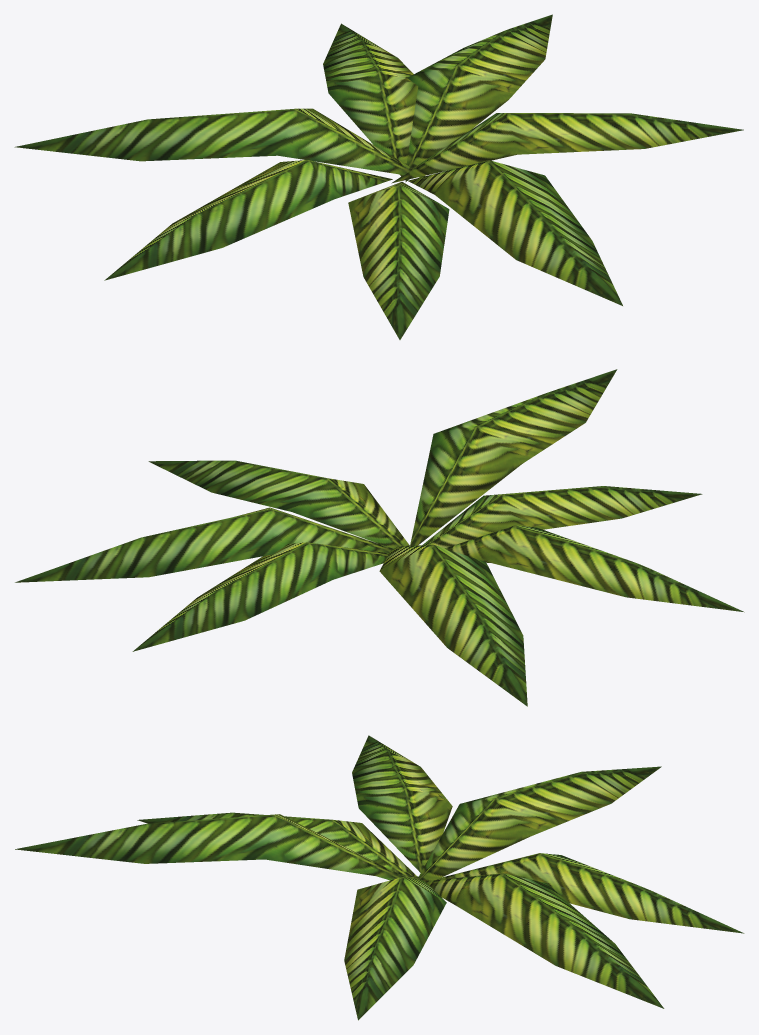
The model's file is flat_plant.FBX.
3 renders of one model, top to bottom at view 1: azimuth 30°, elevation 25°; view 2: azimuth 150°, elevation 25°; view 3: azimuth 270°, elevation 25°, orthographic. The views are drawn at different scales.
Parts seen in each view (by area): view 1: veg_flatPlant; view 2: veg_flatPlant; view 3: veg_flatPlant.
Part boxes in pixels (bbox=[...]): veg_flatPlant: bbox=[14, 14, 743, 339]; veg_flatPlant: bbox=[15, 369, 744, 706]; veg_flatPlant: bbox=[15, 735, 744, 1020].
Bounding box in the file's own units: 53.69 × 6.93 × 58.11.
